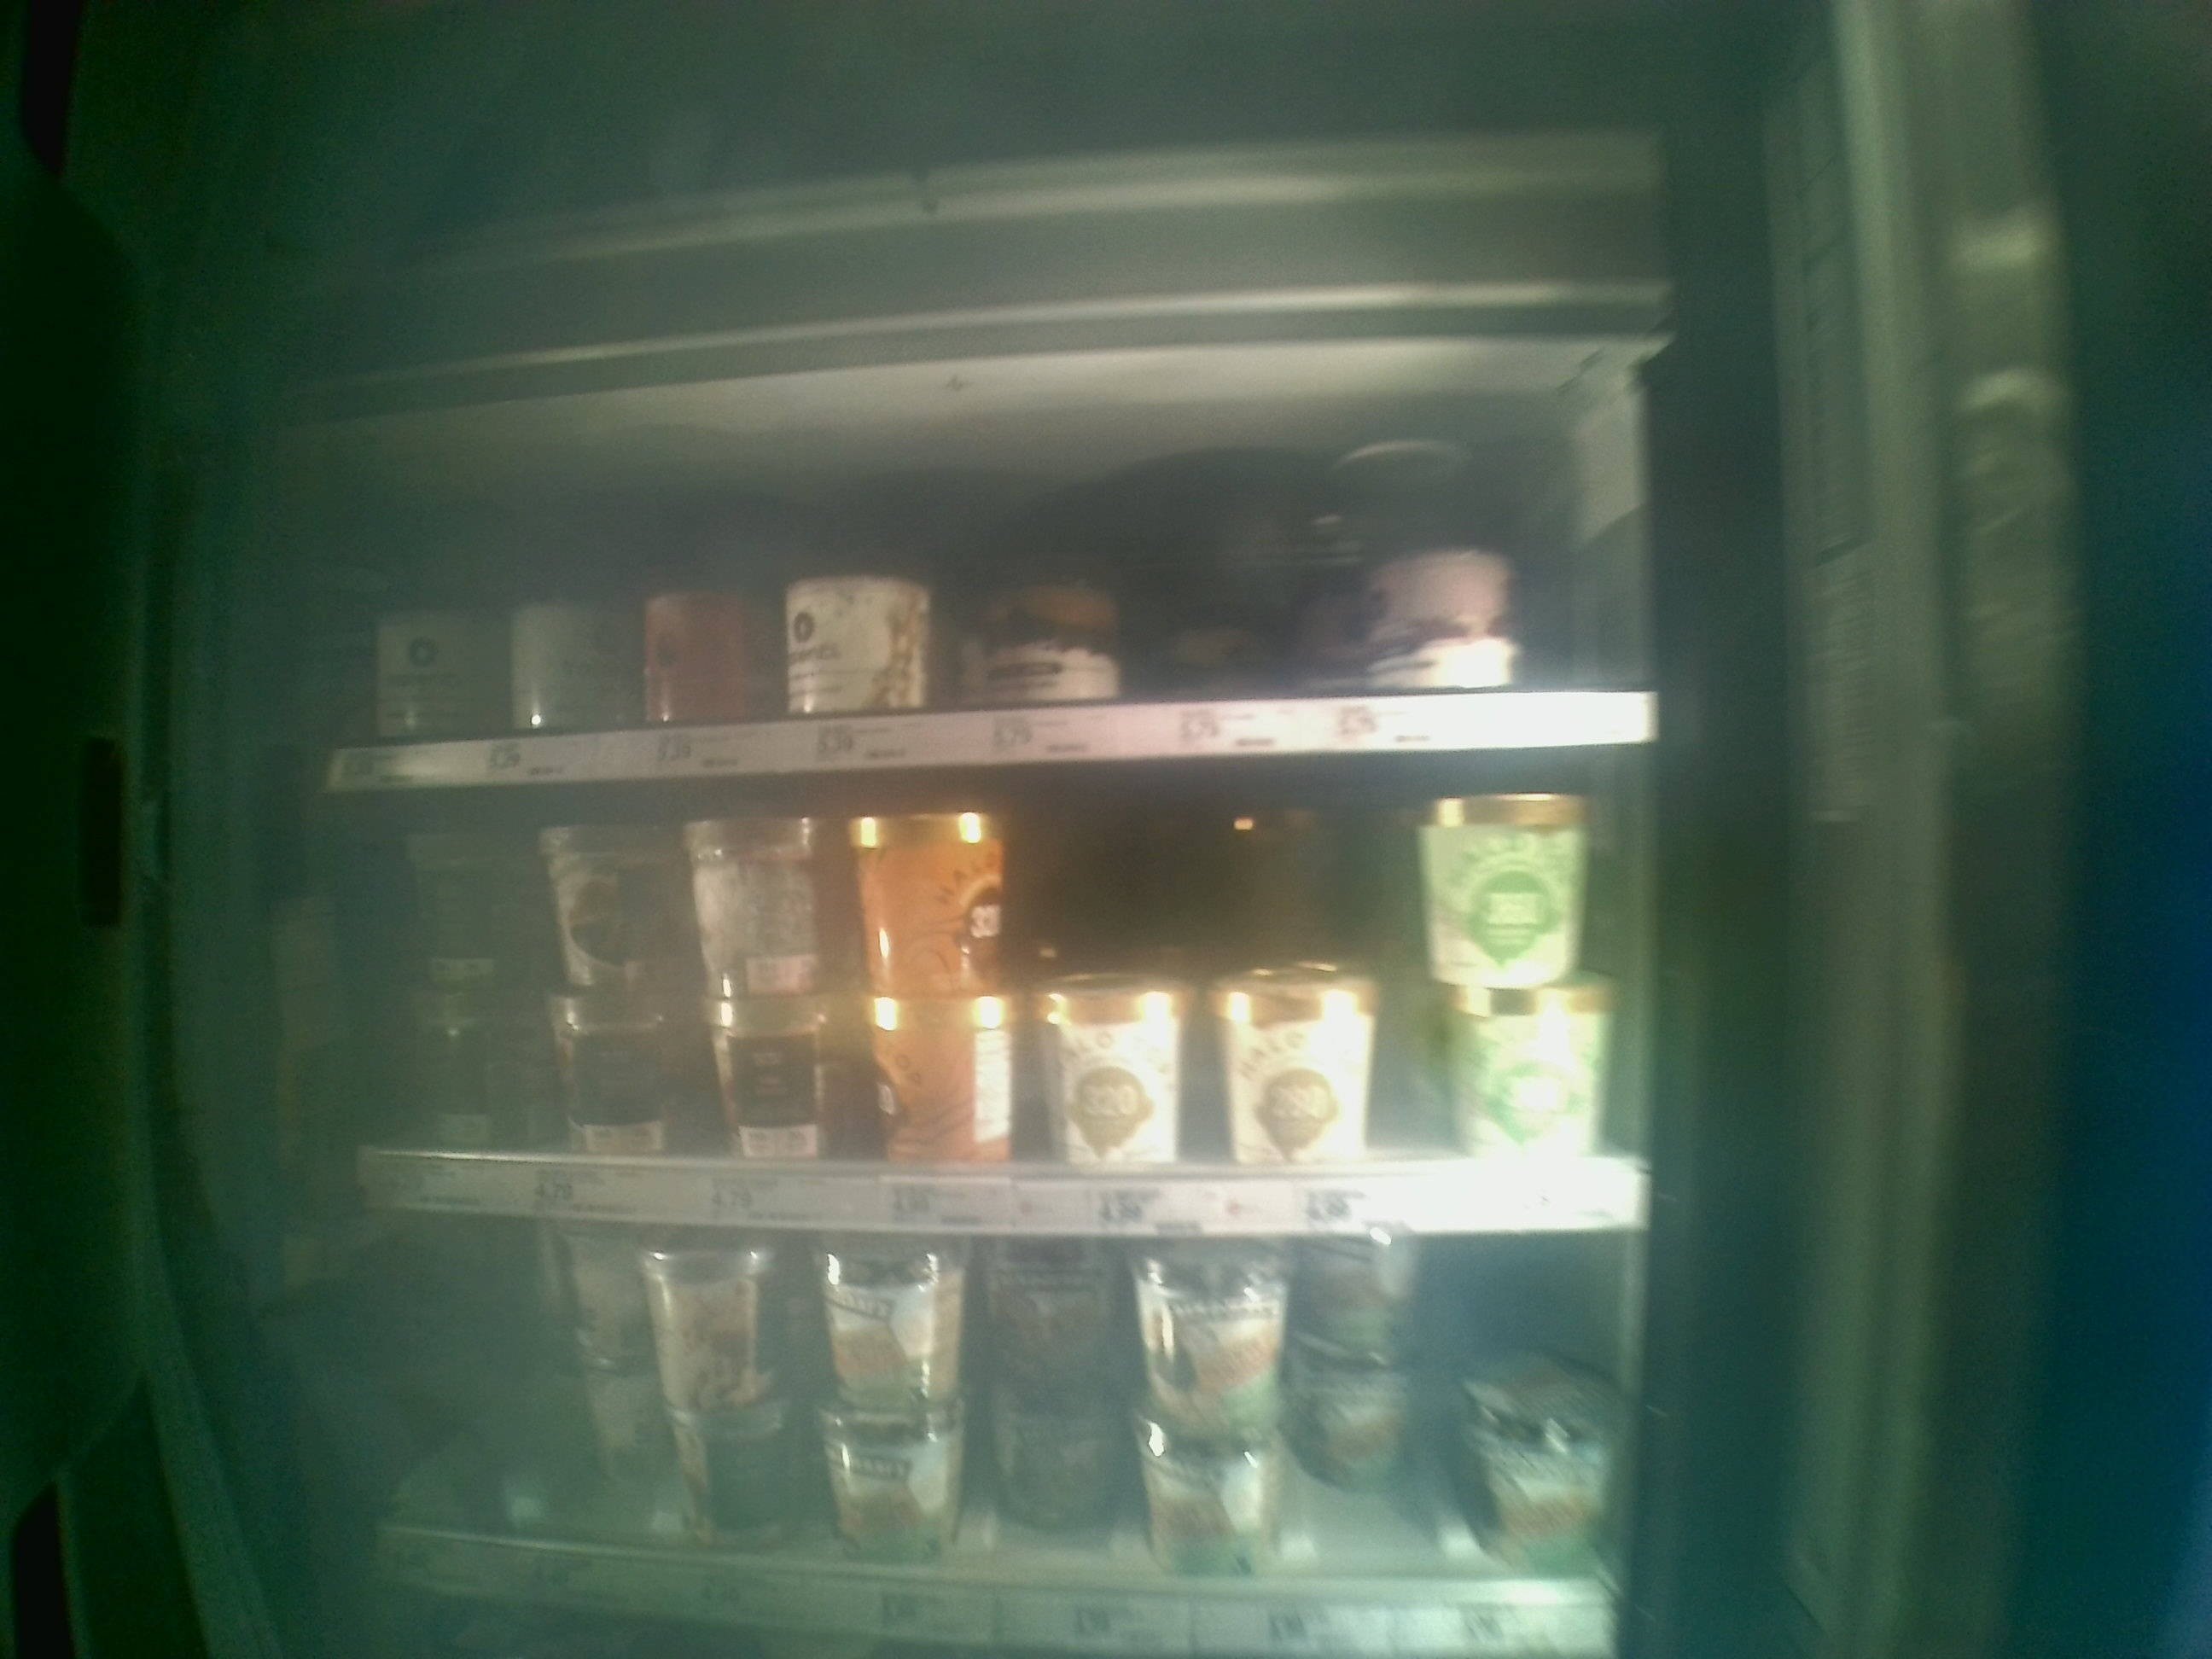shelf: (336, 744, 1658, 1244), (334, 345, 1656, 788)
